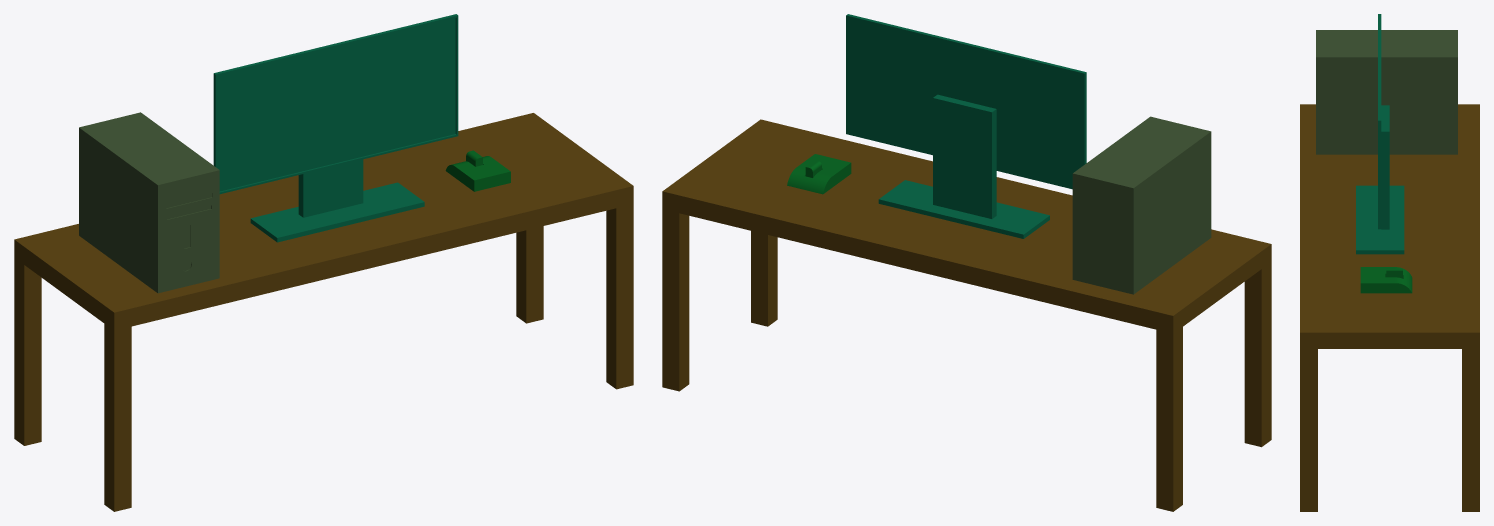
File: computer_table.dae
3 renders of one model, left to right at view 1: azimuth 30°, elevation 25°; view 2: azimuth 150°, elevation 25°; view 3: azimuth 270°, elevation 25°, orthographic. The views are drawn at different scales.
Visible parts, largest first — view 1: node0, node2, node1, node3; view 2: node0, node2, node1, node3; view 3: node0, node1, node2, node3.
Part boxes in pixels (<box>): node0: <box>14,113,633,511</box>; node2: <box>213,14,458,242</box>; node1: <box>79,112,219,293</box>; node3: <box>445,150,510,191</box>; node0: <box>662,119,1271,511</box>; node2: <box>846,14,1086,238</box>; node1: <box>1072,116,1211,294</box>; node3: <box>787,154,851,194</box>; node0: <box>1300,104,1479,511</box>; node1: <box>1316,30,1457,154</box>; node2: <box>1356,14,1404,254</box>; node3: <box>1360,267,1412,293</box>.
Size of the model in its own units: 3 by 1 by 2.04.
